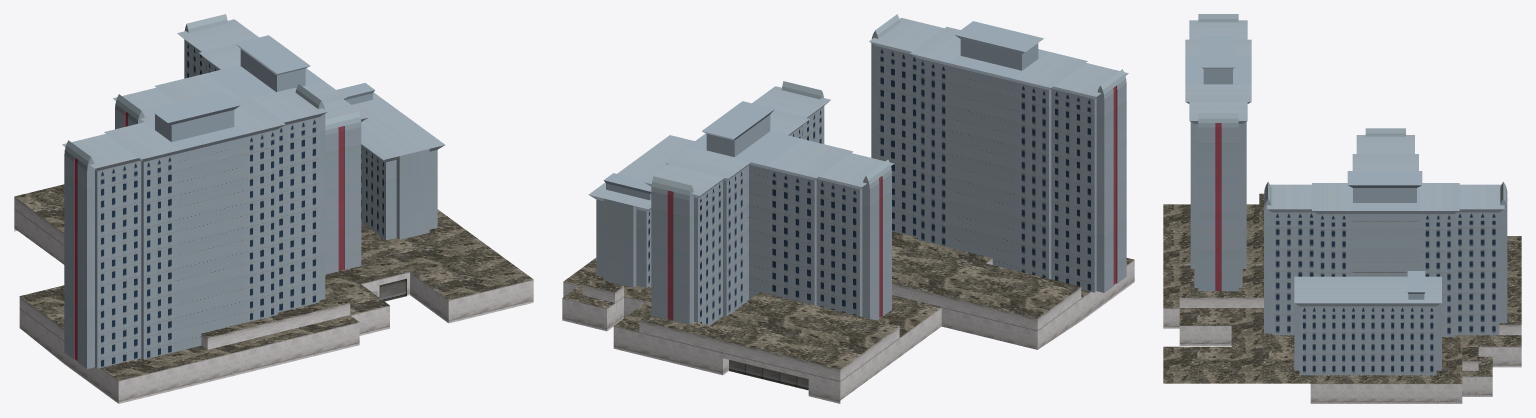
Rendered from vgncircus2.obj.
3 renders of one model, left to right at view 1: azimuth 30°, elevation 25°; view 2: azimuth 150°, elevation 25°; view 3: azimuth 270°, elevation 25°, orthographic. The views are drawn at different scales.
Visible parts, largest first — view 1: vgncircus2; view 2: vgncircus2; view 3: vgncircus2.
Boxes of the visible parts, bbox=[...] form: vgncircus2: bbox=[14, 14, 533, 403]; vgncircus2: bbox=[562, 14, 1134, 403]; vgncircus2: bbox=[1163, 14, 1521, 403].
Bounding box in the file's own units: 122 × 67.46 × 100.
7 materials, 7 textured.
